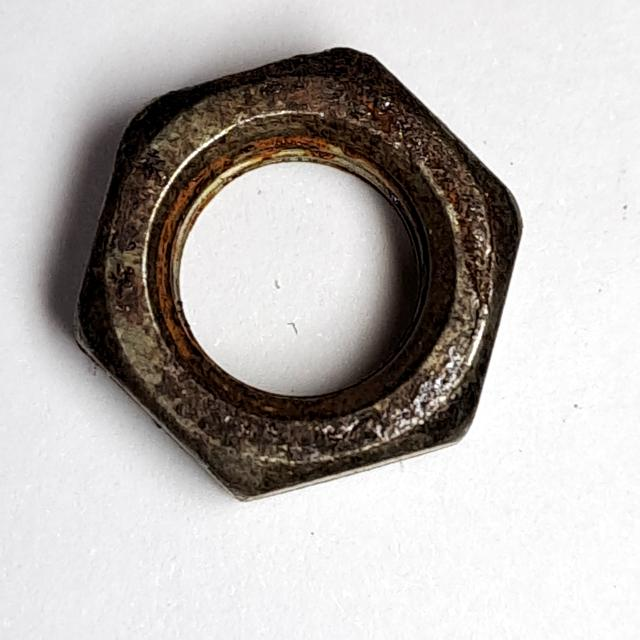Rust: (62, 38, 541, 514)
